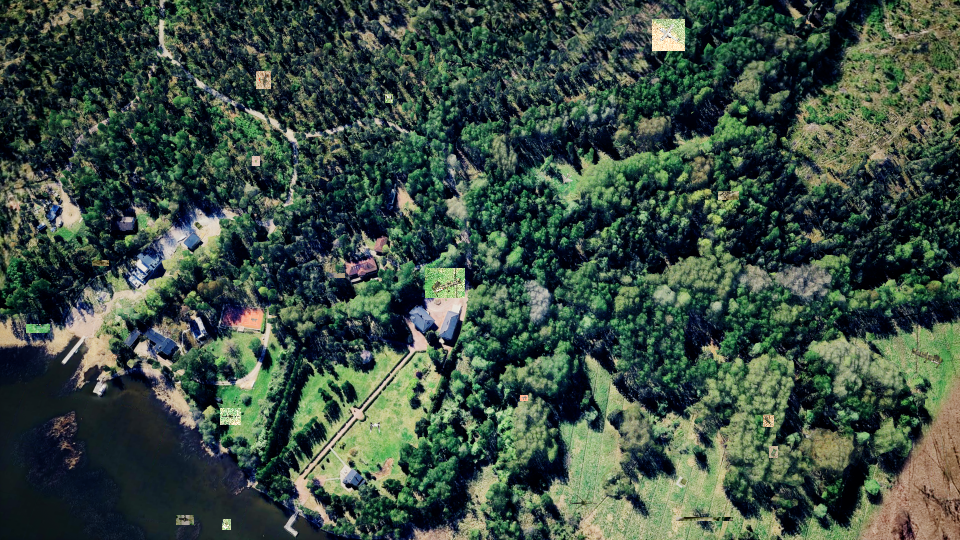condor: (652, 19, 685, 51)
hangar: (676, 517, 733, 521)
helicopter: (220, 408, 241, 425)
jammer: (769, 446, 778, 458)
jet_plane: (26, 324, 50, 333)
large_launcher: (425, 268, 465, 298)
large_tower: (718, 191, 739, 200)
medium_launcher: (92, 260, 109, 266)
medium_plane: (176, 515, 194, 525)
mine_roller: (763, 415, 774, 427)
small_launcher: (252, 156, 260, 166)
small_plane: (256, 71, 271, 89)
small_tower: (222, 519, 231, 530)
spacecraft: (385, 94, 393, 103)
ta-ta: (520, 395, 528, 401)
tank: (329, 273, 345, 278)
